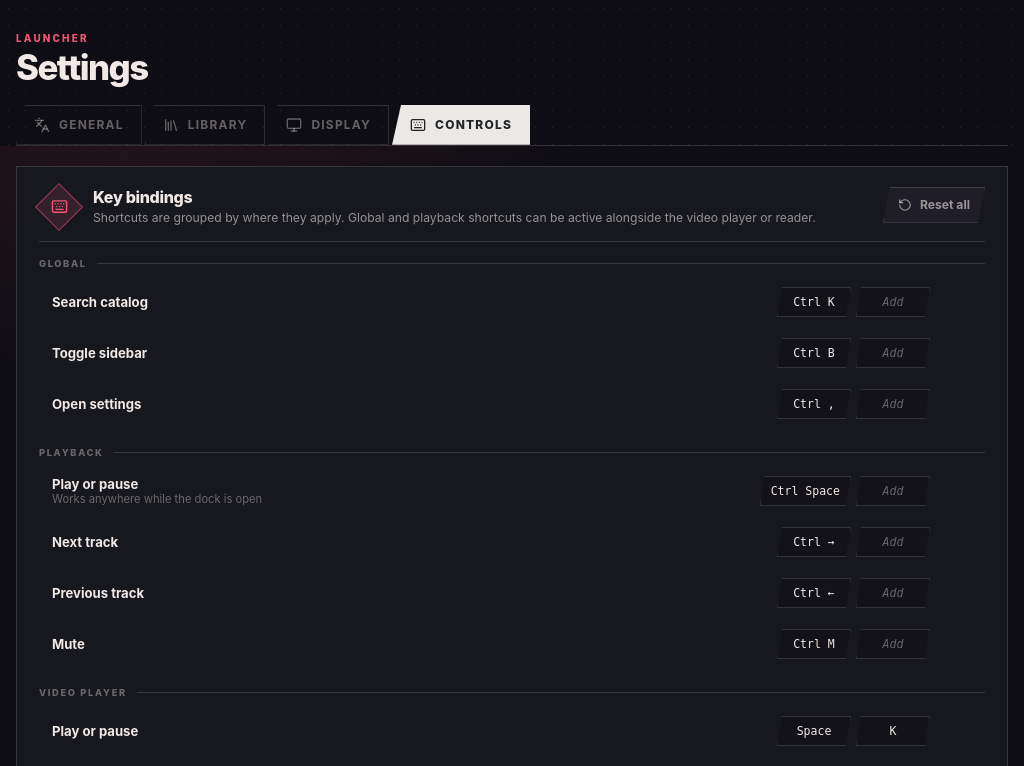
SettingsPage › removes a global key from every overlapping action
Click the button "Ctrl B" at (814, 353), box [777,338,851,368]
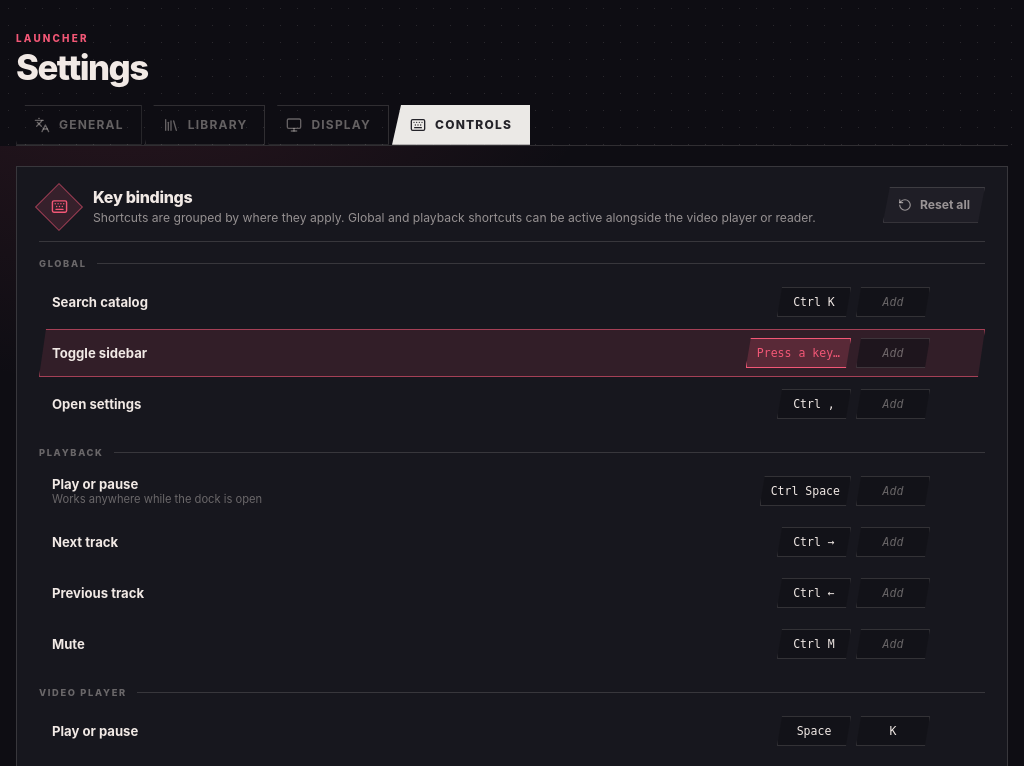
Press ArrowLeft
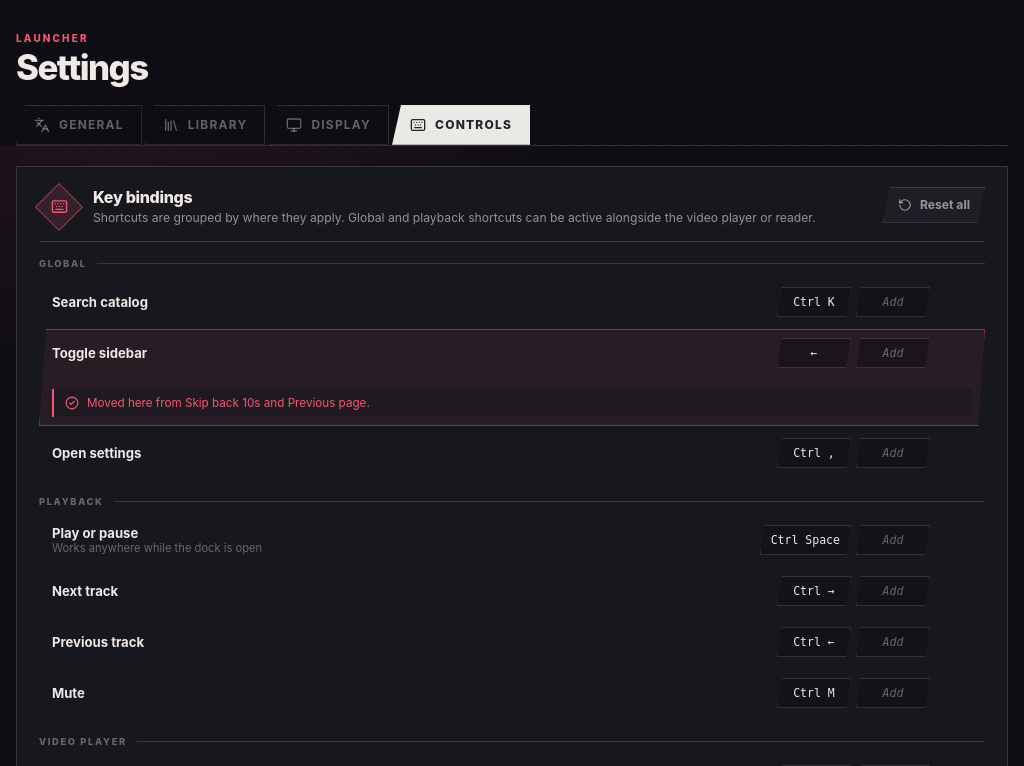
Now the message shows "Skip back 10s", box [87,396,370,410]
Now the message shows "Previous page", box [87,396,370,410]
